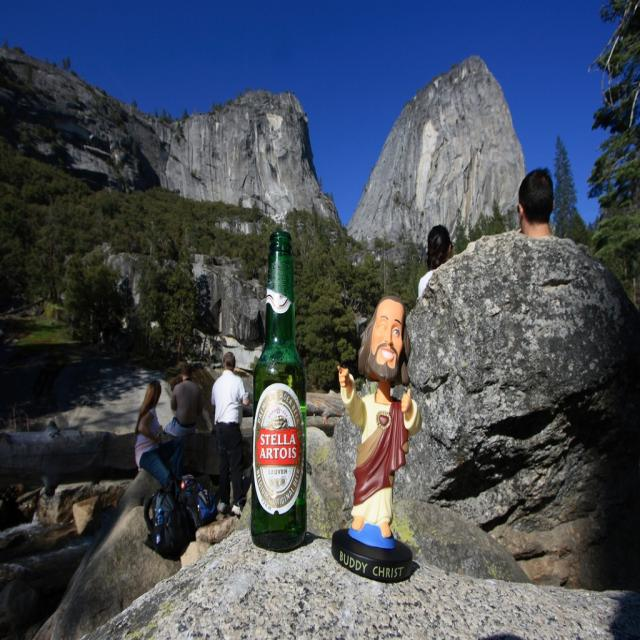stellaartois: (255, 391, 305, 512)
